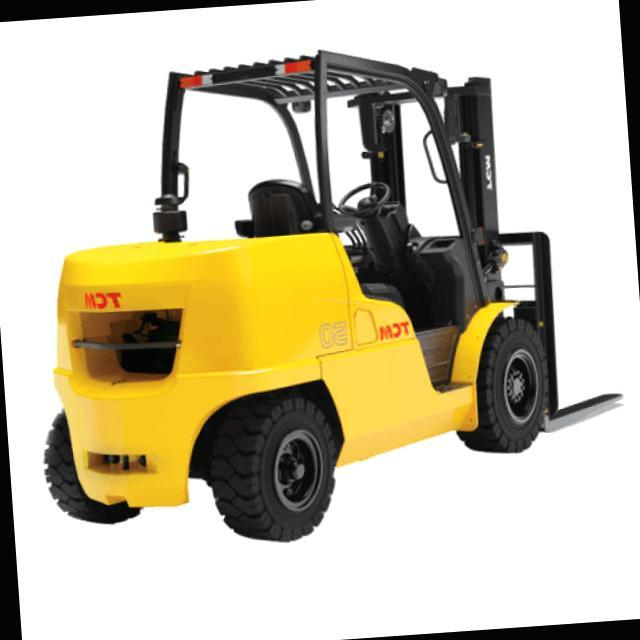forklift: (3, 18, 640, 575)
